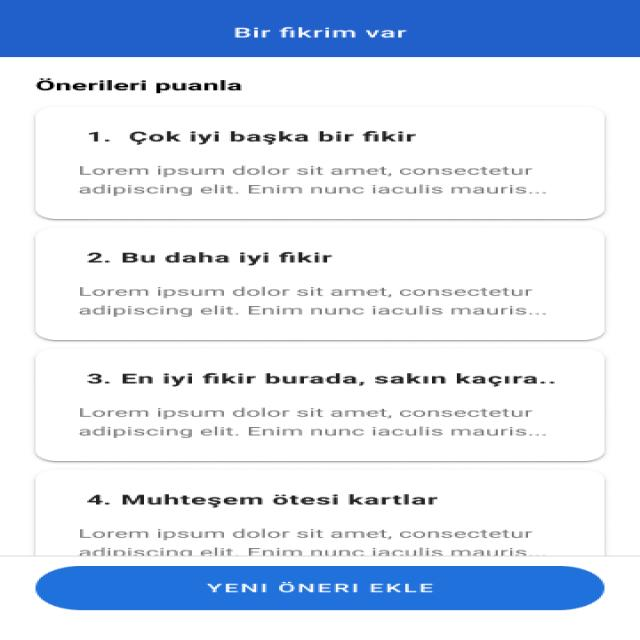QLabel: (68, 403, 557, 439), (75, 163, 554, 199), (68, 284, 550, 319), (66, 526, 545, 555), (70, 371, 558, 387), (80, 129, 419, 146), (82, 493, 442, 507), (196, 579, 440, 598), (79, 250, 338, 266), (30, 76, 246, 94), (226, 25, 411, 41)
VAppBar: (0, 0, 640, 56)
VBtn: (37, 566, 603, 611)
VCard: (29, 225, 615, 343), (30, 347, 615, 464), (33, 107, 607, 220), (28, 468, 613, 556)
VFooter: (0, 556, 640, 640)
